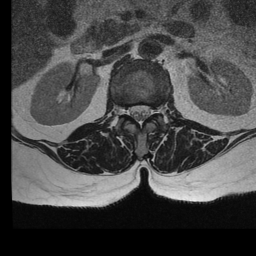CCS_normal: (136, 97, 144, 133)
LFS_stenosis: (151, 103, 158, 120)
LLS_normal: (144, 98, 151, 123)
RFS_normal: (121, 100, 129, 120)
RLS_normal: (129, 101, 136, 125)
